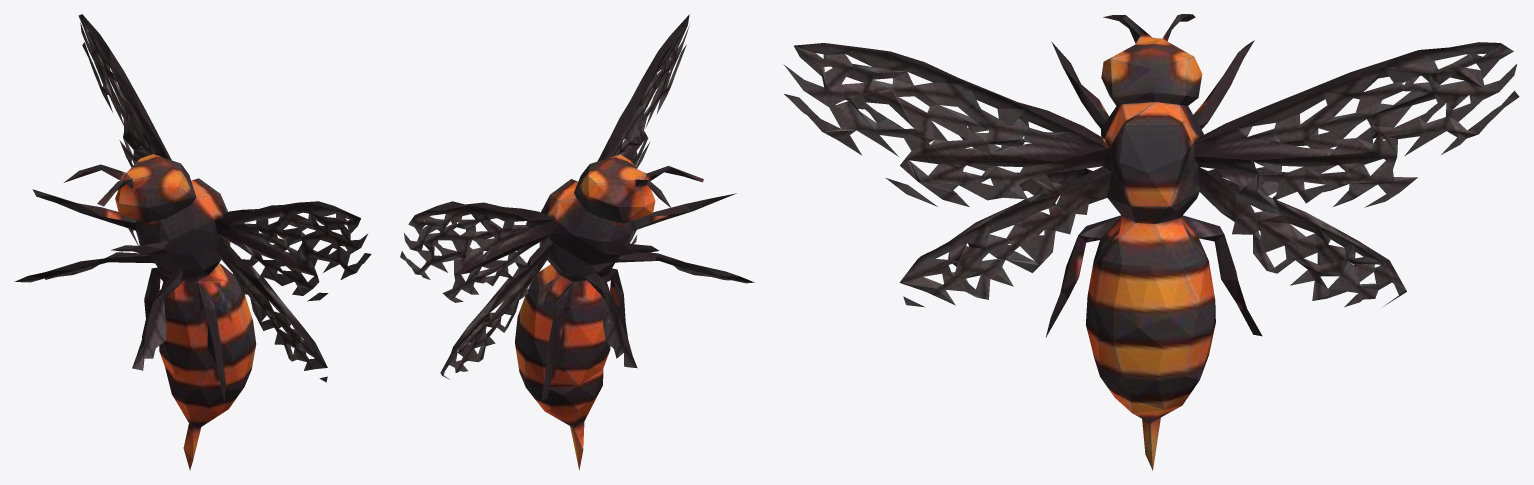
Rendered from foe_emberWasp.glb.
3 views of the same model, side by side, from view 1: azimuth 30°, elevation 25°; view 2: azimuth 150°, elevation 25°; view 3: azimuth 270°, elevation 25° (orthographic). The views are drawn at different scales.
Visible parts, largest first — view 1: tripo_node_d83f30e5-78c5-46e0-b7db-8614bfa3a0d8.001; view 2: tripo_node_d83f30e5-78c5-46e0-b7db-8614bfa3a0d8.001; view 3: tripo_node_d83f30e5-78c5-46e0-b7db-8614bfa3a0d8.001.
Boxes of the visible parts, bbox=[...] form: tripo_node_d83f30e5-78c5-46e0-b7db-8614bfa3a0d8.001: bbox=[14, 14, 371, 470]; tripo_node_d83f30e5-78c5-46e0-b7db-8614bfa3a0d8.001: bbox=[400, 14, 754, 469]; tripo_node_d83f30e5-78c5-46e0-b7db-8614bfa3a0d8.001: bbox=[783, 14, 1519, 470].
Size of the model in its own units: 0.3418 by 0.6473 by 0.9689.
Materials: 1 (1 with a texture image).
